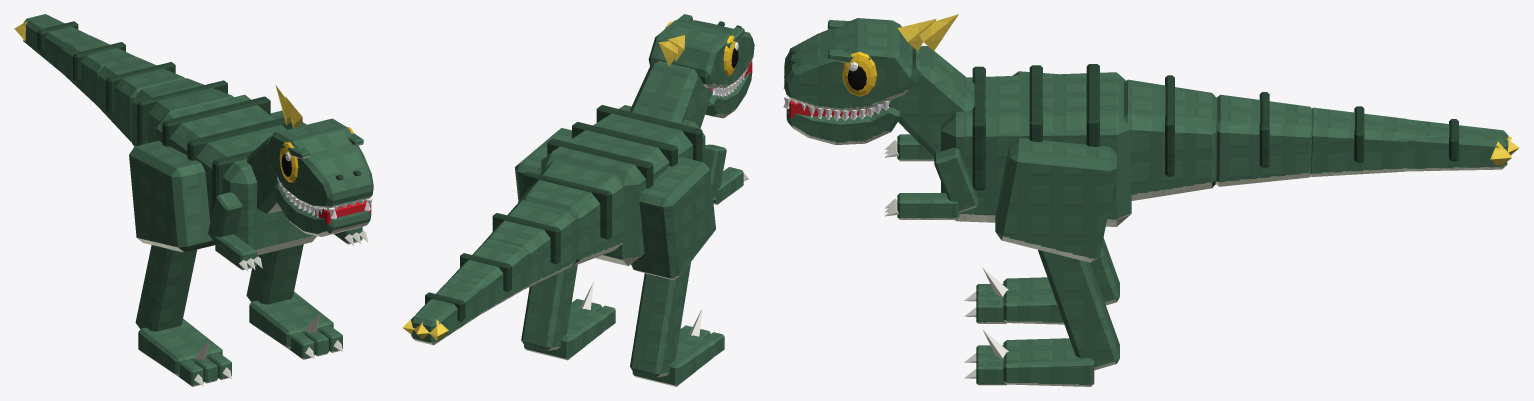
The model's file is 27_Troodon.glb.
3 views of the same model, side by side, from view 1: azimuth 30°, elevation 25°; view 2: azimuth 150°, elevation 25°; view 3: azimuth 270°, elevation 25° (orthographic). The views are drawn at different scales.
Visible parts, largest first — view 1: 27_Troodon; view 2: 27_Troodon; view 3: 27_Troodon.
Part boxes in pixels (x1,y1,x2,y2): 27_Troodon: [14, 14, 373, 386]; 27_Troodon: [402, 14, 754, 386]; 27_Troodon: [783, 14, 1519, 386].
Size of the model in its own units: 1.28 by 2.2 by 4.45.
1 material, 1 textured.
